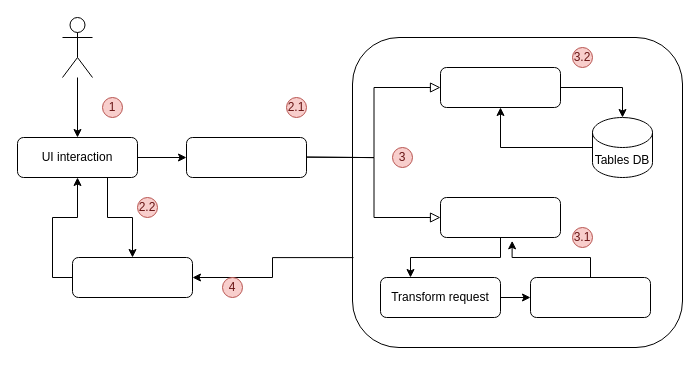
The diagram is 700 pixels wide and 365 high, and some of its shapes have lost their labels. The box of each missing label's shape, as (x1, y1, x2, y2) in pixels:
Query external service: (440, 196, 560, 238)
Request to backend REST API: (186, 136, 306, 178)
Table operation: (440, 66, 560, 108)
Transform service response: (530, 276, 650, 318)
Update data store: (72, 256, 192, 298)
